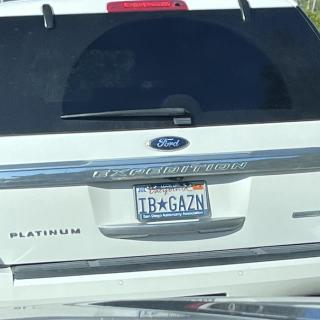license: (133, 181, 212, 223)
